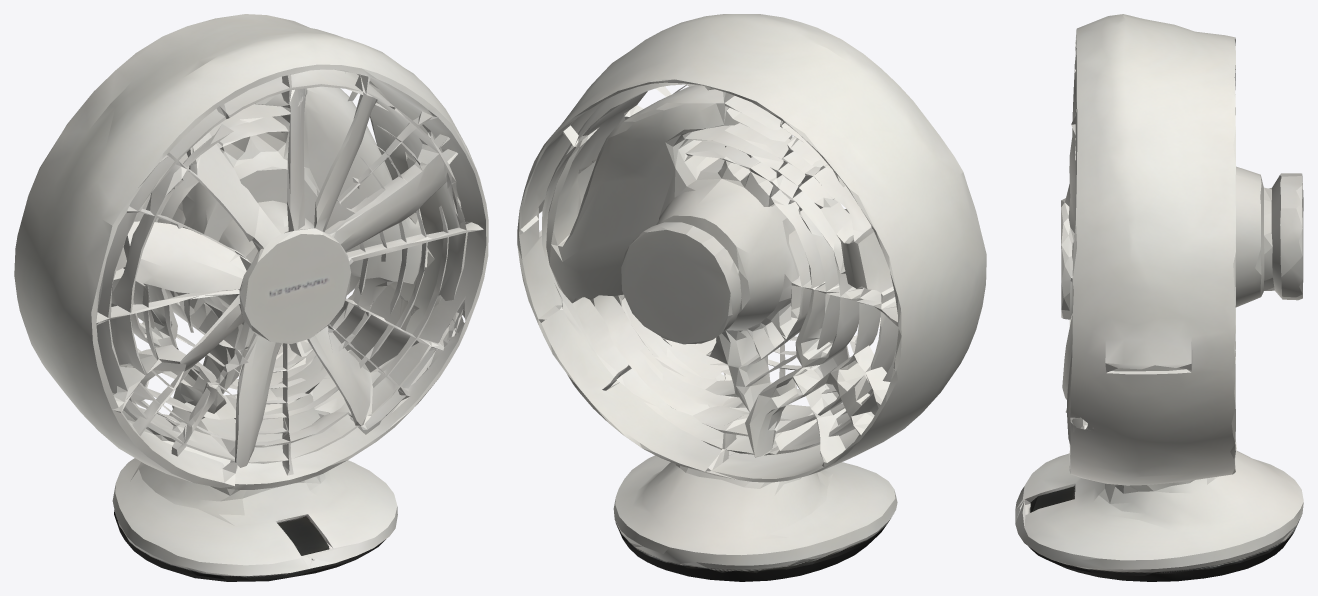
Rendered from fan.glb.
3 renders of one model, left to right at view 1: azimuth 30°, elevation 25°; view 2: azimuth 150°, elevation 25°; view 3: azimuth 270°, elevation 25°, orthographic.
Visible parts, largest first — view 1: model; view 2: model; view 3: model.
Part boxes in pixels (left/top/right/bottom): model: left=14, top=14, right=488, bottom=581; model: left=517, top=14, right=986, bottom=581; model: left=1015, top=14, right=1303, bottom=581.
Bounding box in the file's own units: 1.68 × 1.9 × 1.01.
Materials: 1 (1 with a texture image).
